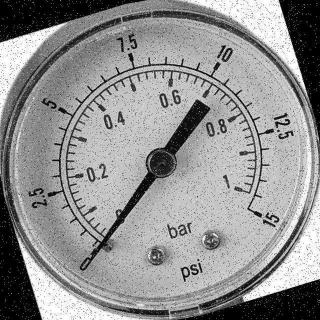gauge: (0, 0, 320, 320), (143, 144, 179, 180), (239, 193, 273, 231), (75, 238, 108, 276), (83, 251, 99, 267)
